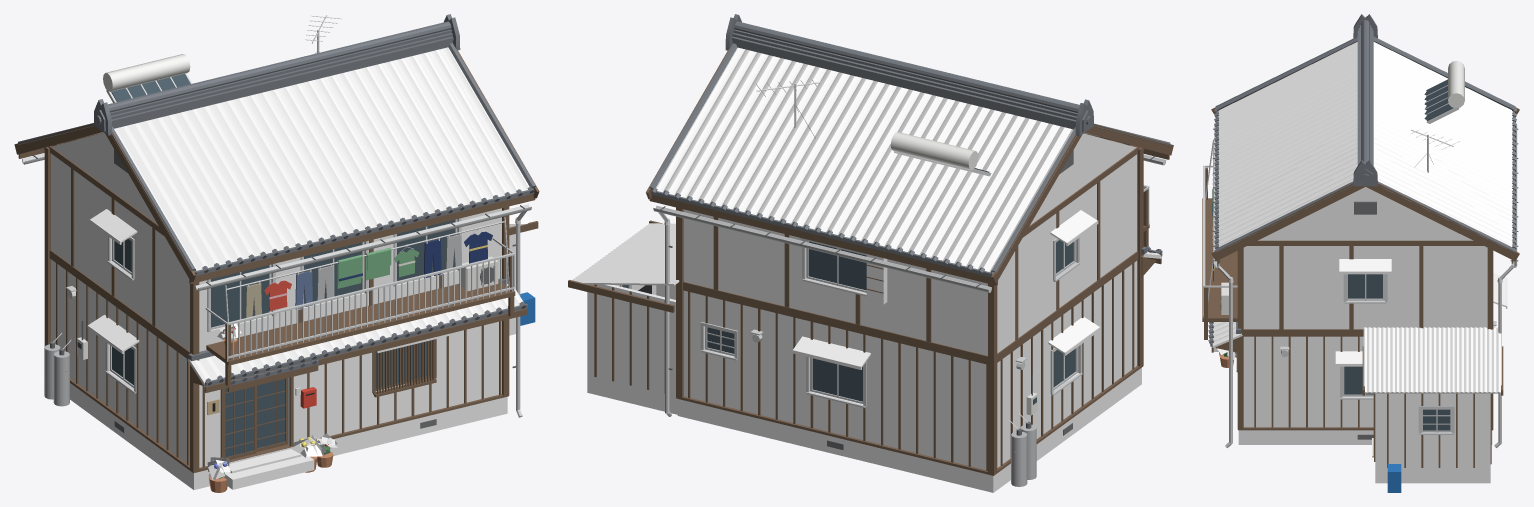
The model's file is house_standard.glb.
3 renders of one model, left to right at view 1: azimuth 30°, elevation 25°; view 2: azimuth 150°, elevation 25°; view 3: azimuth 270°, elevation 25°, orthographic. The views are drawn at different scales.
Visible parts, largest first — view 1: house_standard_body; view 2: house_standard_body; view 3: house_standard_body.
Boxes of the visible parts, x1,y1,x2,y2 form: house_standard_body: (14, 14, 539, 492); house_standard_body: (568, 14, 1173, 492); house_standard_body: (1202, 14, 1519, 492).
Size of what is drawn, in the model's own units: 11.63 by 8.38 by 8.26.
